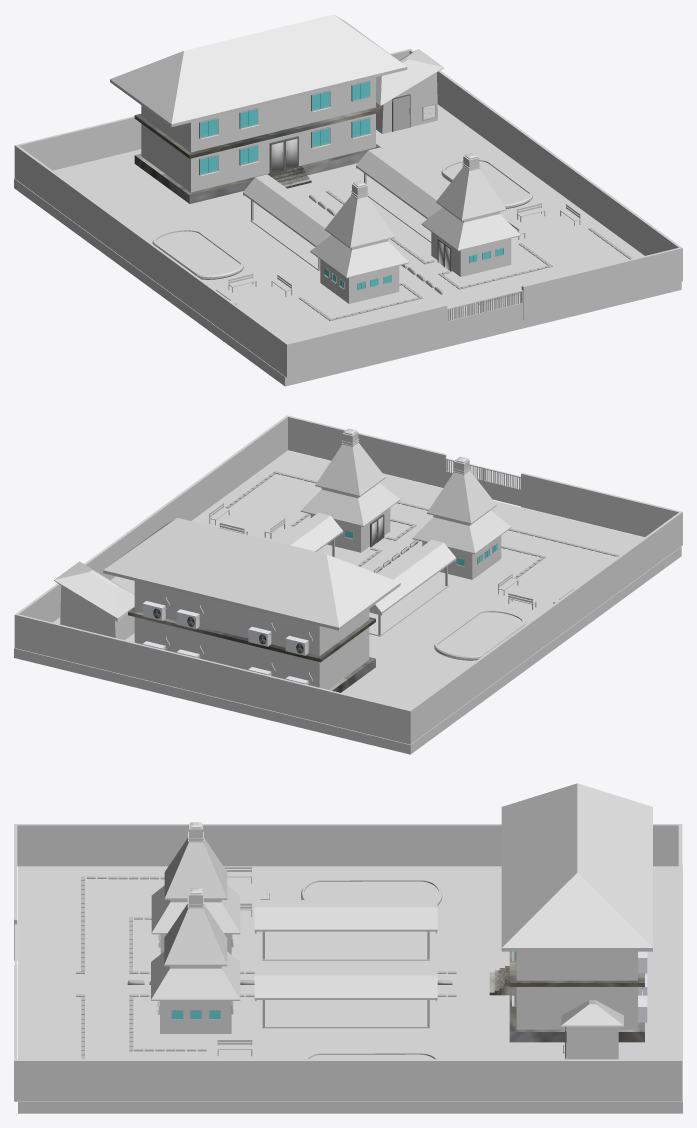
File: Main-area.fbx
3 views of the same model, one above another, from view 1: azimuth 30°, elevation 25°; view 2: azimuth 150°, elevation 25°; view 3: azimuth 270°, elevation 25° (orthographic). The views are drawn at different scales.
Parts seen in each view (by area): view 1: Plane, Wall.004, Dorm-roof, Dorm, Building-Right-wing.001, Building-Right-wing, Roof-outdoocorrirdor, roof-outdoocorrirdor, Dorm-body-2, Grass.001, Cube.022, Dorm-body-1 (+9 smaller); view 2: Wall.004, Plane, Dorm-roof, Dorm, Building-Right-wing.001, Building-Right-wing, Cube.022, Roof-outdoocorrirdor, Grass.001, Cube.004, Floor-outdoocorrirdor, Dorm-body-1 (+4 smaller); view 3: Plane, Wall.004, Dorm-roof, Building-Right-wing, Dorm, Roof-outdoocorrirdor, roof-outdoocorrirdor, Building-Right-wing.001, Floor-outdoocorrirdor.001, Floor-outdoocorrirdor, Grass.001, Cube.004 (+6 smaller).
Boxes of the visible parts, left/top/right/bottom form: Plane: left=14, top=104, right=681, bottom=386; Wall.004: left=14, top=48, right=682, bottom=377; Dorm-roof: left=110, top=14, right=407, bottom=127; Dorm: left=141, top=77, right=375, bottom=192; Building-Right-wing.001: left=310, top=181, right=408, bottom=303; Building-Right-wing: left=421, top=153, right=520, bottom=276; Roof-outdoocorrirdor: left=243, top=174, right=330, bottom=246; roof-outdoocorrirdor: left=356, top=147, right=442, bottom=218; Dorm-body-2: left=134, top=144, right=382, bottom=203; Grass.001: left=156, top=231, right=240, bottom=274; Cube.022: left=376, top=49, right=443, bottom=105; Dorm-body-1: left=134, top=104, right=382, bottom=158; Wall.004: left=14, top=415, right=682, bottom=744; Plane: left=14, top=450, right=681, bottom=754; Dorm-roof: left=103, top=518, right=400, bottom=630; Dorm: left=134, top=581, right=369, bottom=689; Building-Right-wing.001: left=412, top=456, right=511, bottom=579; Building-Right-wing: left=300, top=428, right=400, bottom=552; Cube.022: left=54, top=561, right=134, bottom=621; Roof-outdoocorrirdor: left=374, top=540, right=456, bottom=613; Grass.001: left=437, top=612, right=522, bottom=655; Cube.004: left=60, top=586, right=134, bottom=640; Floor-outdoocorrirdor: left=369, top=580, right=448, bottom=636; Dorm-body-1: left=128, top=607, right=375, bottom=662; Plane: left=18, top=864, right=682, bottom=1113; Wall.004: left=14, top=824, right=682, bottom=1101; Dorm-roof: left=501, top=783, right=652, bottom=951; Building-Right-wing: left=151, top=888, right=240, bottom=1033; Dorm: left=516, top=951, right=637, bottom=1029; Roof-outdoocorrirdor: left=254, top=900, right=437, bottom=931; roof-outdoocorrirdor: left=254, top=968, right=437, bottom=999; Building-Right-wing.001: left=151, top=822, right=240, bottom=954; Floor-outdoocorrirdor.001: left=262, top=1010, right=429, bottom=1028; Floor-outdoocorrirdor: left=262, top=942, right=429, bottom=960; Grass.001: left=304, top=881, right=438, bottom=899; Cube.004: left=566, top=1026, right=618, bottom=1059.
Bounding box in the file's own units: 4260 × 1416 × 5075.
